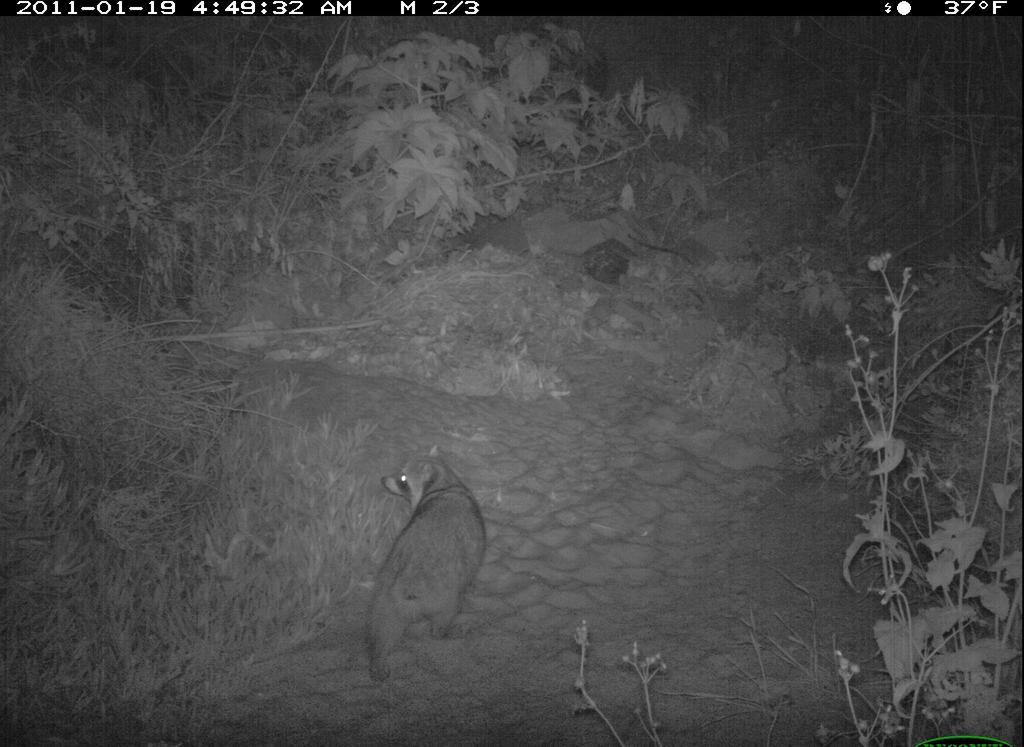raccoon: (356, 438, 495, 693)
